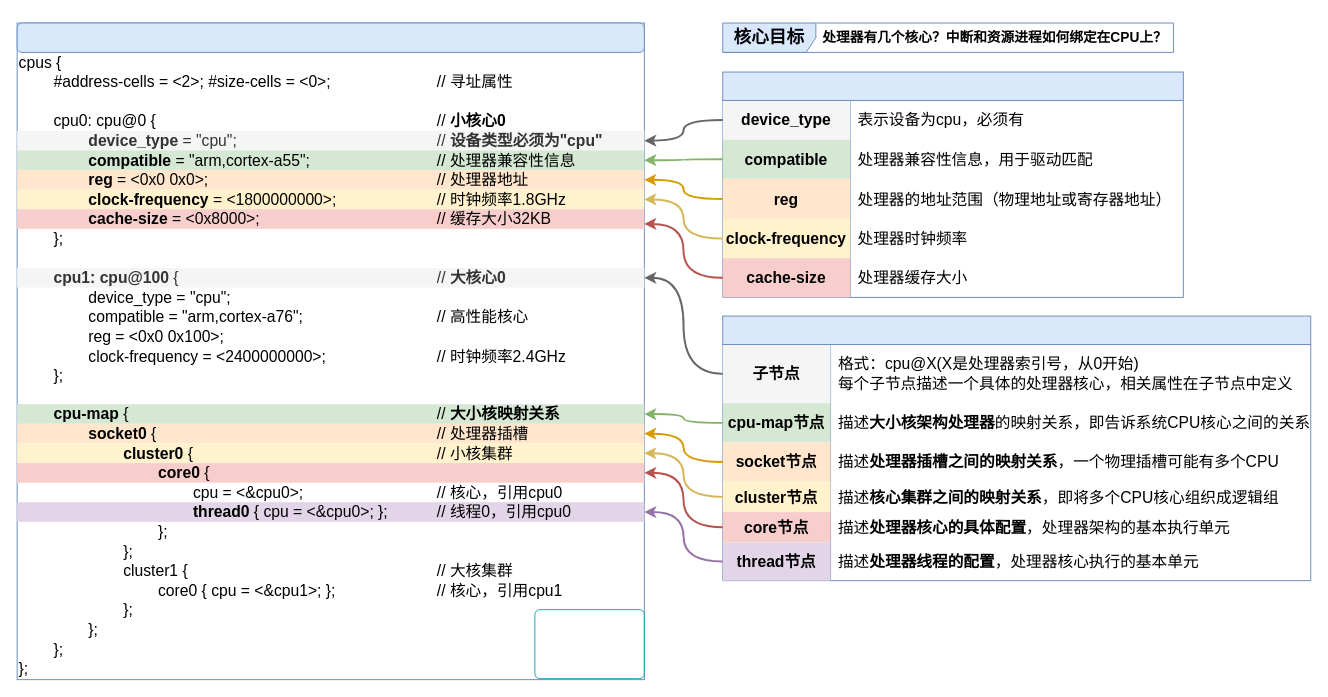
Image size: 1328x697. Some labels were removed from this diagram. Here are the shapes that lost their labels. From the top down, the centre of each, then its label:
(x=330, y=37): CPU节点图示（了解）
(x=952, y=85): CPU节点属性描述
(x=1016, y=329): CPU节点描述
(x=589, y=644): 🌻Make By Dakkk
